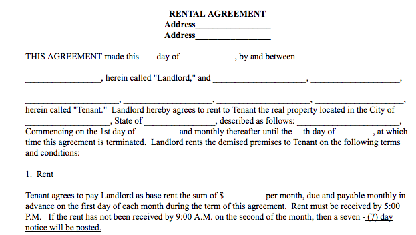textline: (313, 88, 405, 108), (122, 89, 216, 108), (215, 89, 313, 107), (22, 91, 121, 108), (308, 71, 403, 86), (211, 71, 308, 85), (23, 69, 104, 85), (296, 116, 402, 128), (23, 114, 113, 128), (297, 51, 399, 63), (196, 19, 274, 32), (143, 116, 218, 128), (196, 31, 272, 42), (181, 49, 238, 63), (224, 188, 265, 202), (136, 126, 180, 138), (336, 126, 375, 138), (140, 51, 156, 63), (292, 128, 304, 138)
